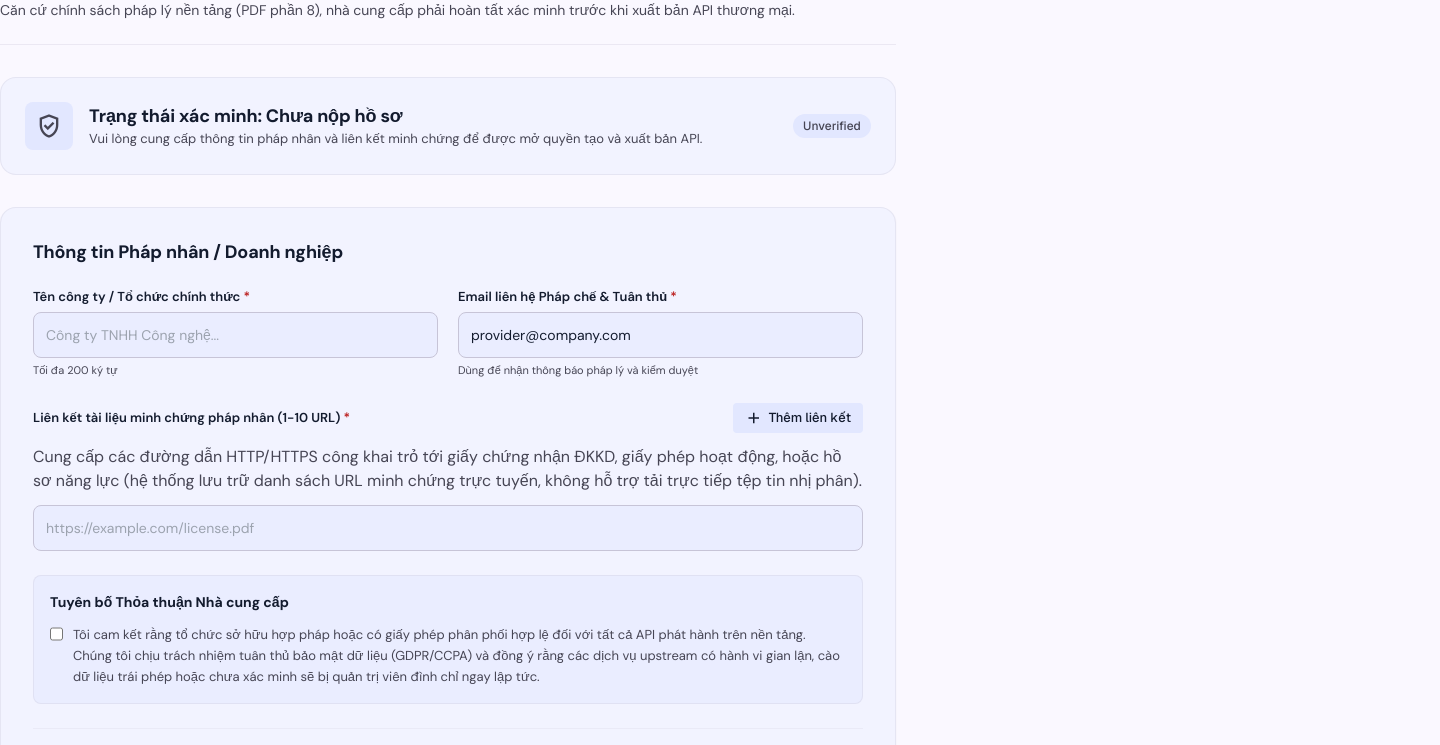
Test: ProviderVerificationPage component tests › submits valid form data and updates status banner
The width and height of the screenshot is (1440, 745).
expect the heading "Trạng thái xác minh: Chưa nộp hồ sơ" is shown: met, box [89,104,402,128]
Type "Super Tech Ltd" into the field with placeholder "Công ty TNHH Công nghệ..." at (236, 335), box [33,312,438,358]
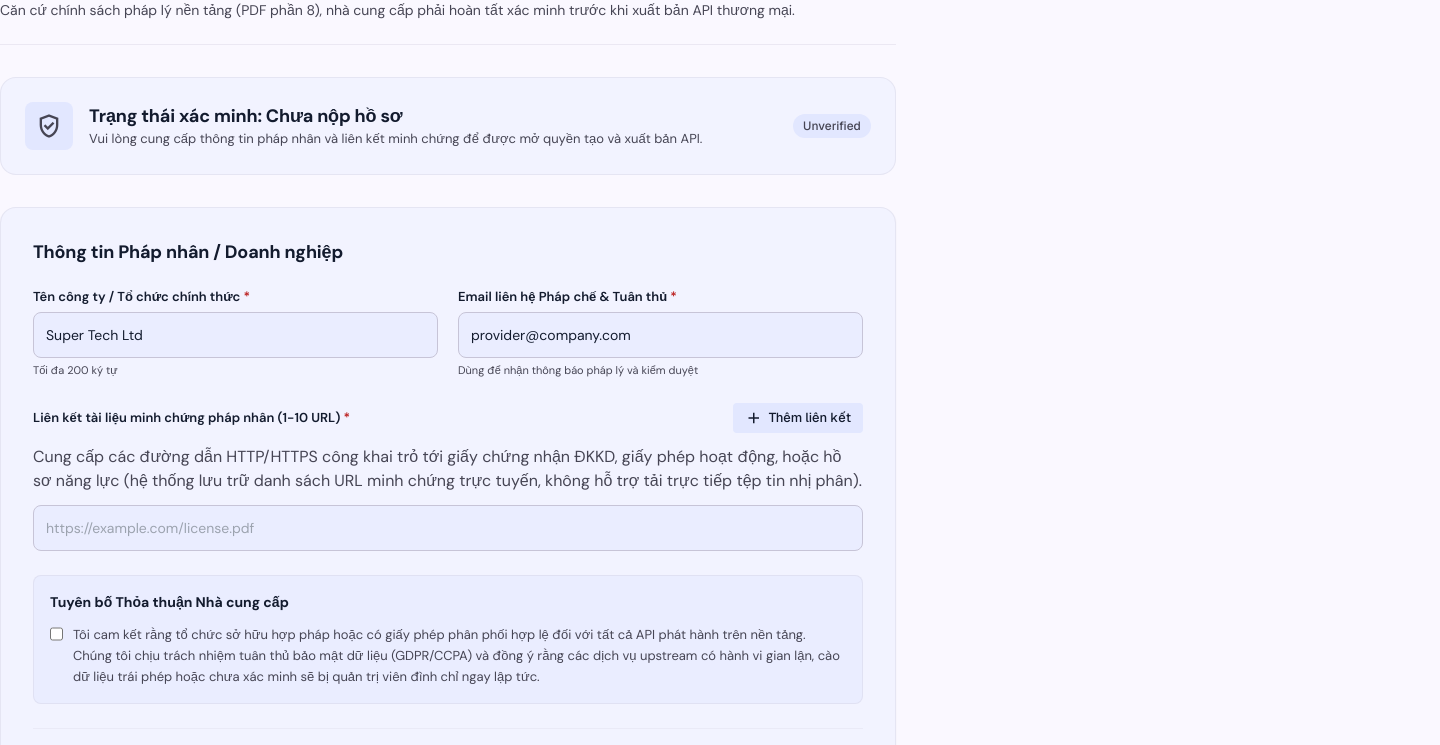
Replace the text in the field with placeholder "legal@company.com" below "Email liên hệ Pháp chế & Tuân thủ" with "legal@supertech.com" at (660, 335), box [458,312,863,358]
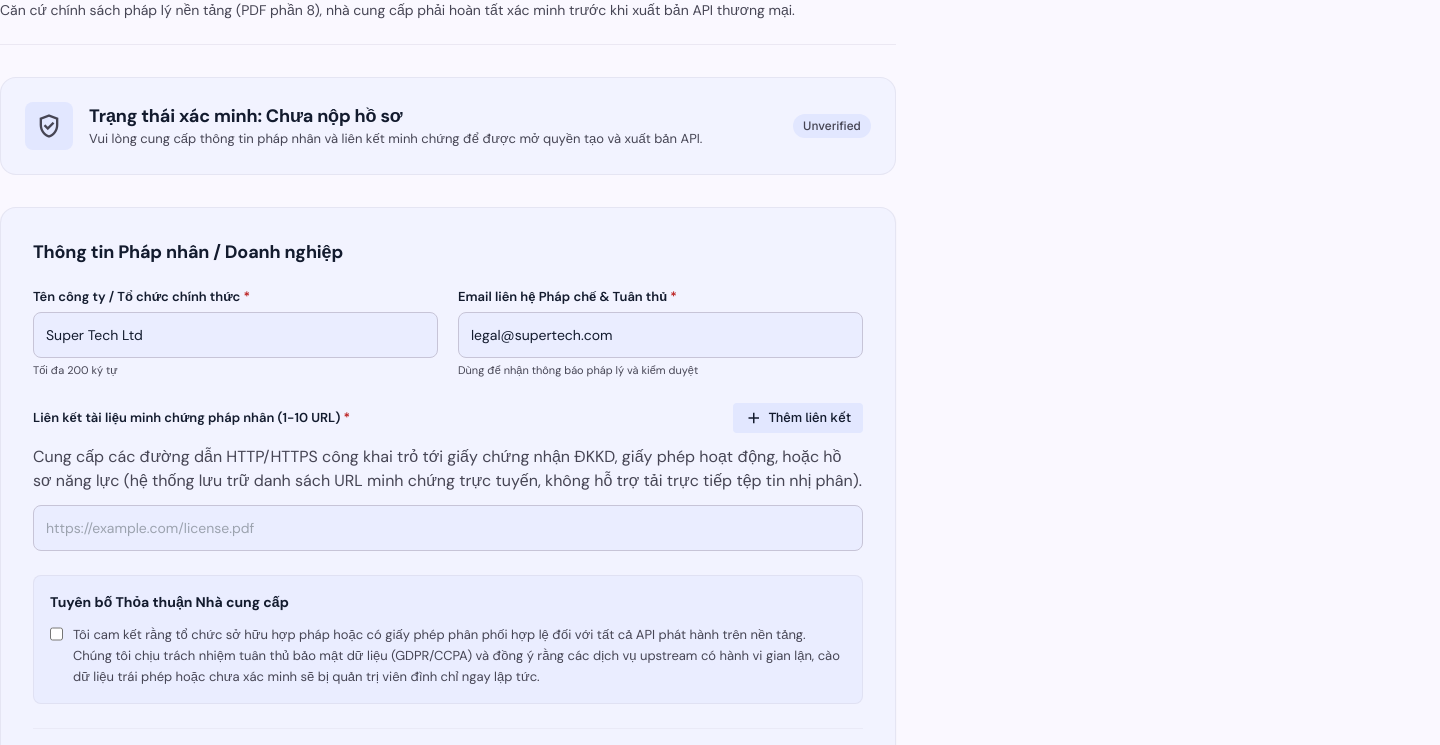
Type "https://supertech.com/license.pdf" into the field with placeholder "https://example.com/license.pdf" at (448, 528), box [33,504,863,550]
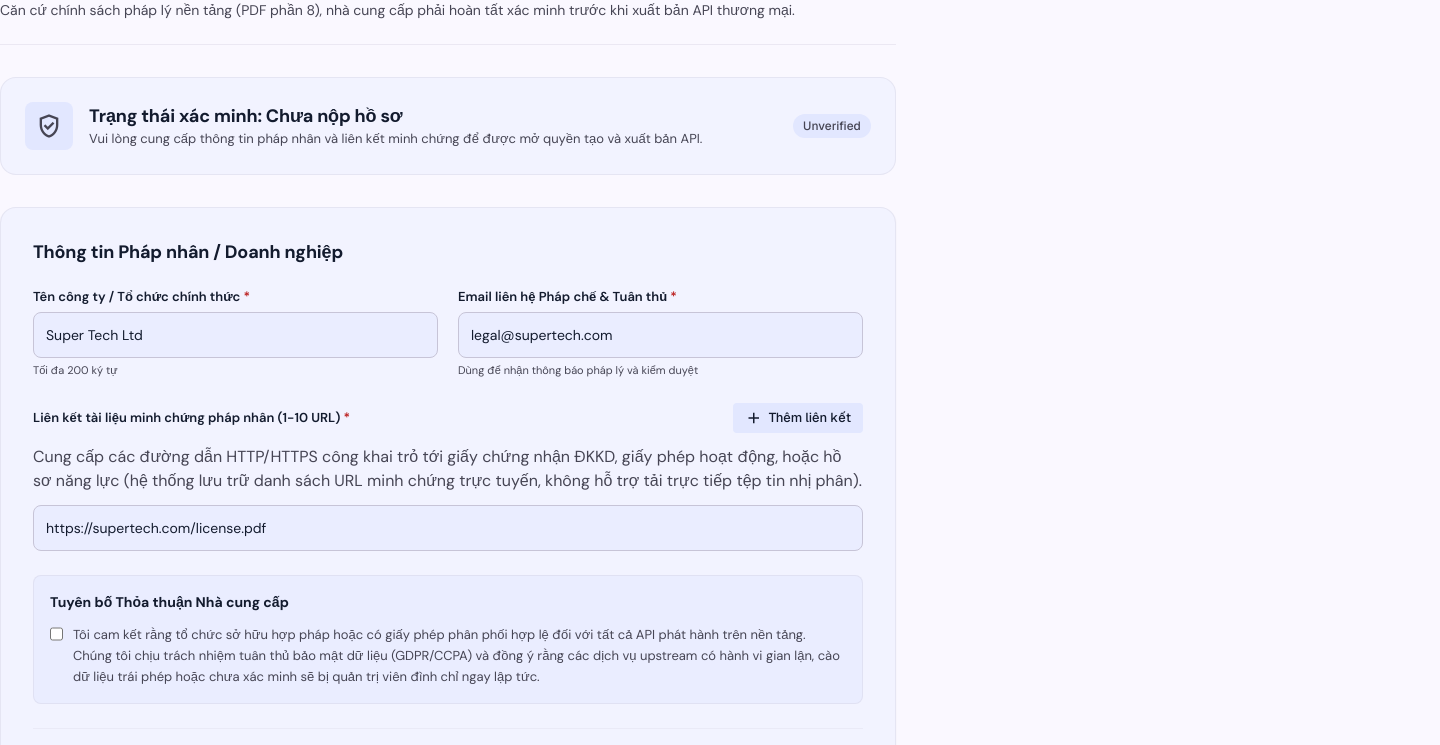
Click the checkbox at (56, 634), box [50,626,63,642]
(page scrolled)
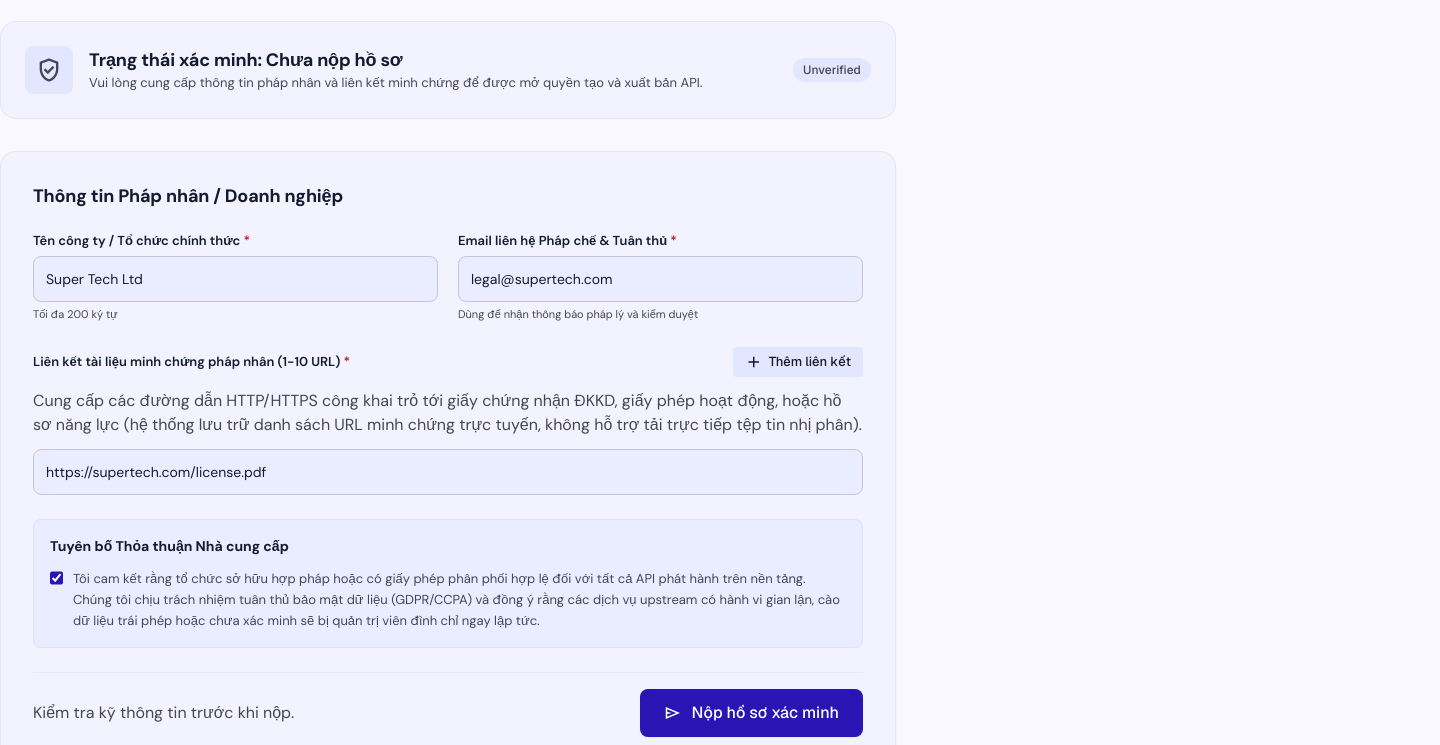
Click the button "Nộp hồ sơ xác minh" at (751, 713), box [640,689,863,737]
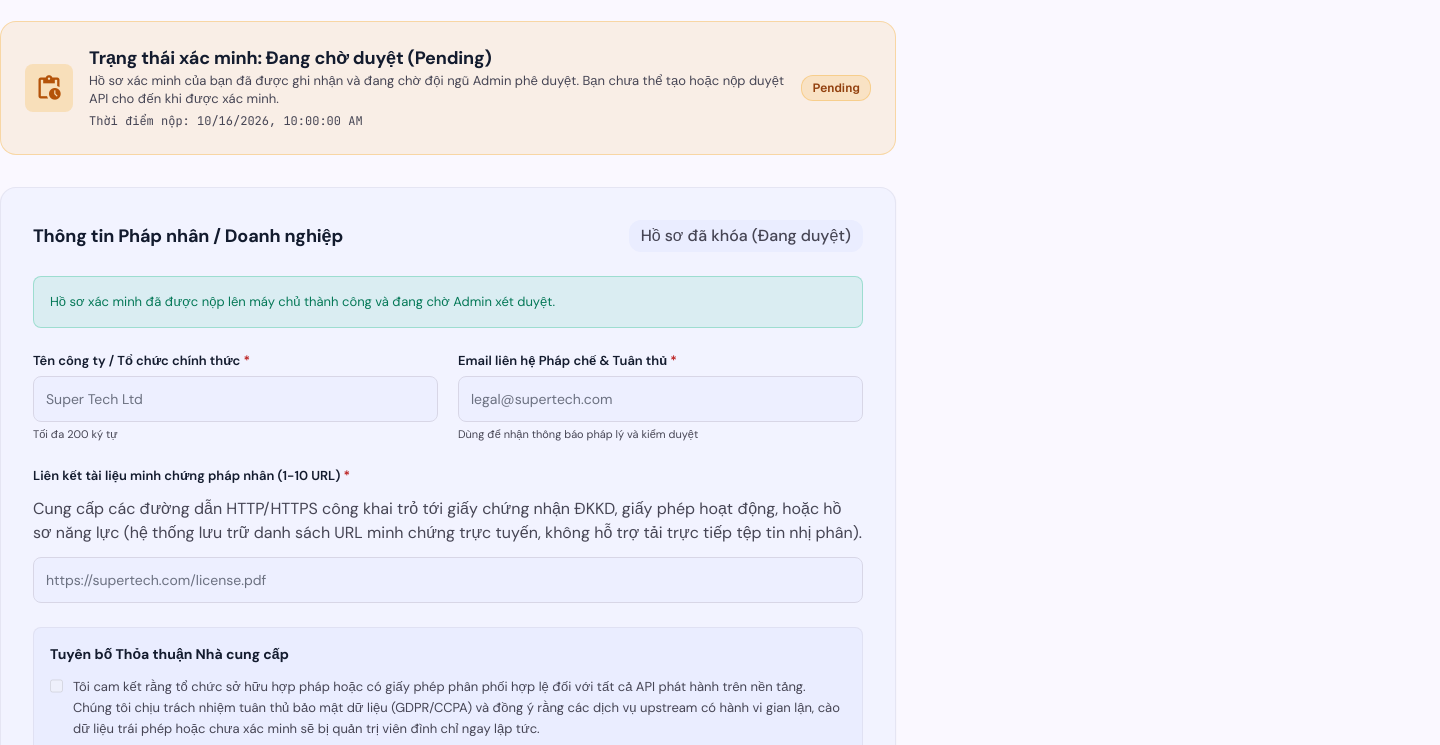
expect the text "Hồ sơ xác minh đã được nộp lên máy chủ thành công và đang chờ Admin xét duyệt." is shown: met, box [33,276,863,328]
